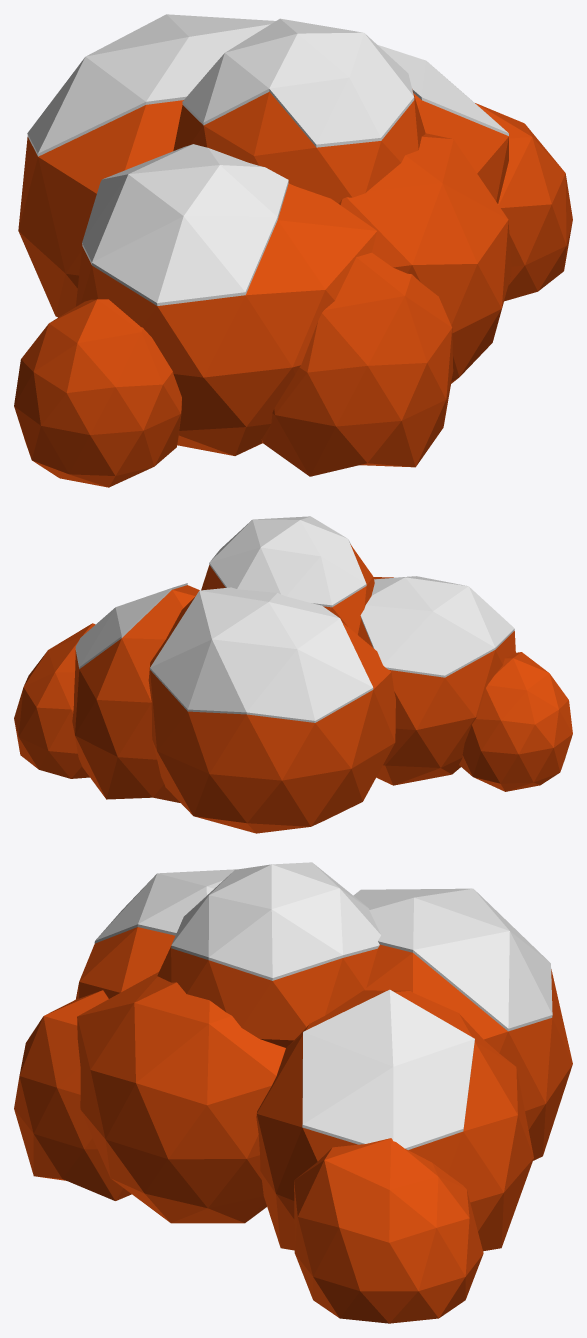
The model's file is Bush4b.fbx.
The picture shows the model from 3 angles, top to bottom: view 1: azimuth 30°, elevation 25°; view 2: azimuth 150°, elevation 25°; view 3: azimuth 270°, elevation 25°; orthographic projection. The views are drawn at different scales.
Parts seen in each view (by area): view 1: Bush4.001; view 2: Bush4.001; view 3: Bush4.001.
Boxes of the visible parts, box(x1,y1,x2,y2) form: Bush4.001: box(14, 14, 572, 487); Bush4.001: box(14, 516, 572, 833); Bush4.001: box(14, 862, 572, 1323).
Size of the model in its own units: 606 by 305 by 488.
